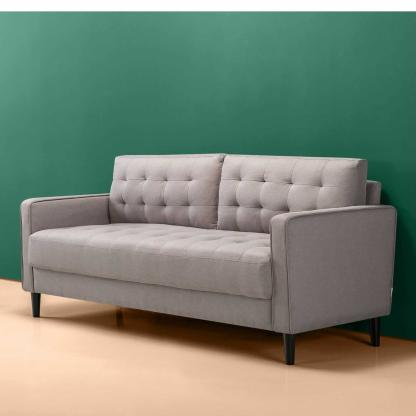Sofa: (20, 149, 400, 366)
